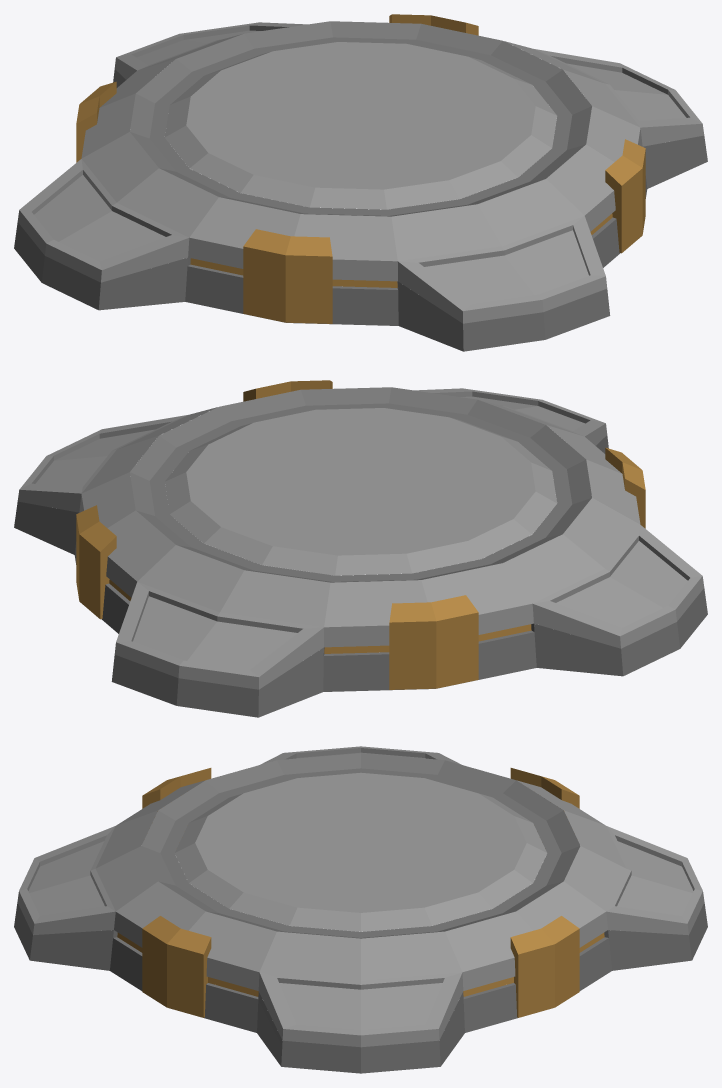
Rendered from Props_Base.glb.
The picture shows the model from 3 angles, top to bottom: view 1: azimuth 30°, elevation 25°; view 2: azimuth 150°, elevation 25°; view 3: azimuth 270°, elevation 25°; orthographic projection. The views are drawn at different scales.
Visible parts, largest first — view 1: Main, DarkGrey, Accent; view 2: Main, DarkGrey, Accent; view 3: Main, DarkGrey, Accent.
Boxes of the visible parts, left/top/right/bottom form: Main: left=17, top=22, right=704, bottom=323; DarkGrey: left=14, top=21, right=707, bottom=351; Accent: left=76, top=14, right=645, bottom=323; Main: left=17, top=388, right=704, bottom=689; DarkGrey: left=14, top=387, right=707, bottom=717; Accent: left=76, top=380, right=645, bottom=689; Main: left=17, top=746, right=704, bottom=1047; DarkGrey: left=14, top=753, right=707, bottom=1073; Accent: left=117, top=768, right=604, bottom=1017.
Bounding box in the file's own units: 2.4 × 0.3203 × 2.4.
